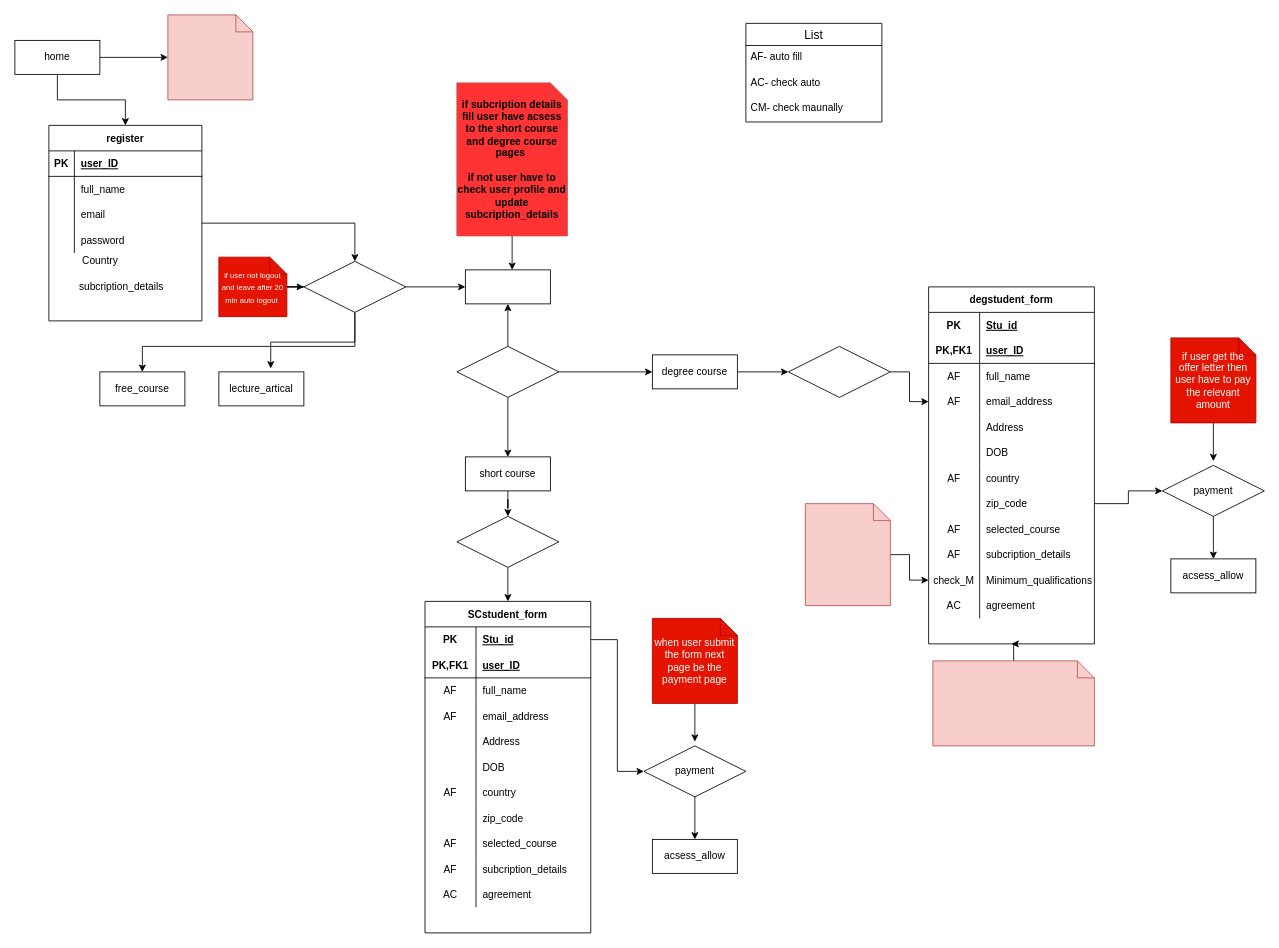
This 1279x948 diagram has some shape labels left out. Each missing label, with the centre of its shape:
acsess: the point at 507,371
chack_ subcriptionDetails: the point at 507,286
check manually if user didnt have MQ send mail to user and try next time: the point at 847,554
if all details fill DB send the offer letter: the point at 1013,703
log_in: the point at 354,286
select_course: the point at 507,541
select_degree: the point at 839,371
user have to register to acess the other pages: the point at 210,57
